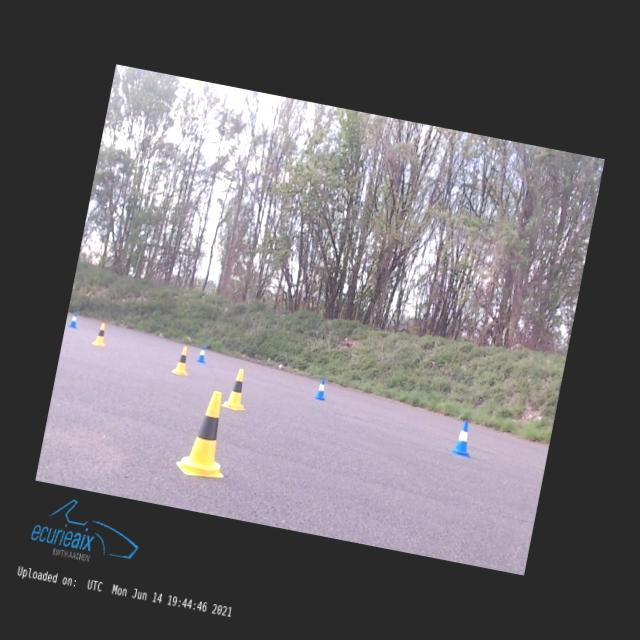blue_cone: (452, 420, 476, 457), (314, 377, 330, 401), (196, 342, 208, 362), (68, 310, 80, 328)
yellow_cone: (175, 387, 239, 482), (222, 366, 254, 412), (172, 345, 192, 376), (92, 322, 109, 346)
